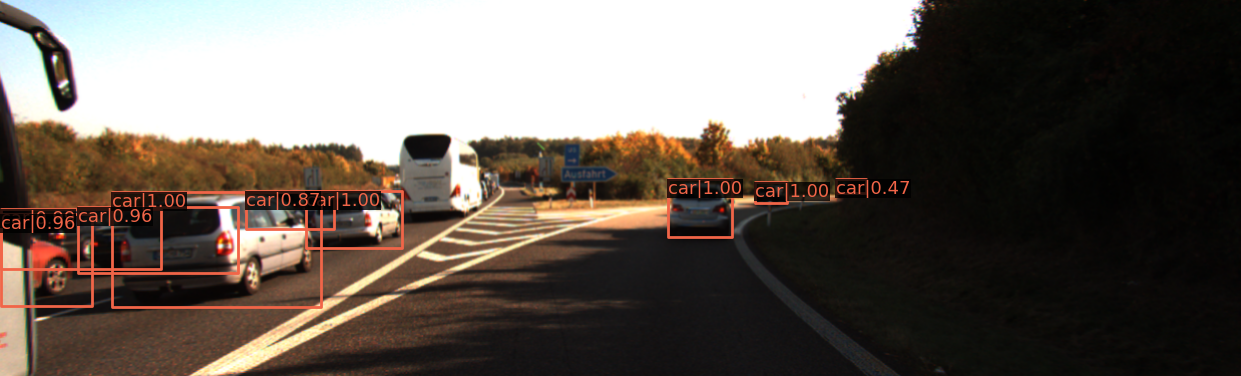car: (119, 193, 319, 304), (87, 206, 230, 277), (1, 210, 81, 308), (312, 192, 403, 248), (668, 182, 730, 238), (754, 186, 790, 207), (831, 183, 858, 198)
